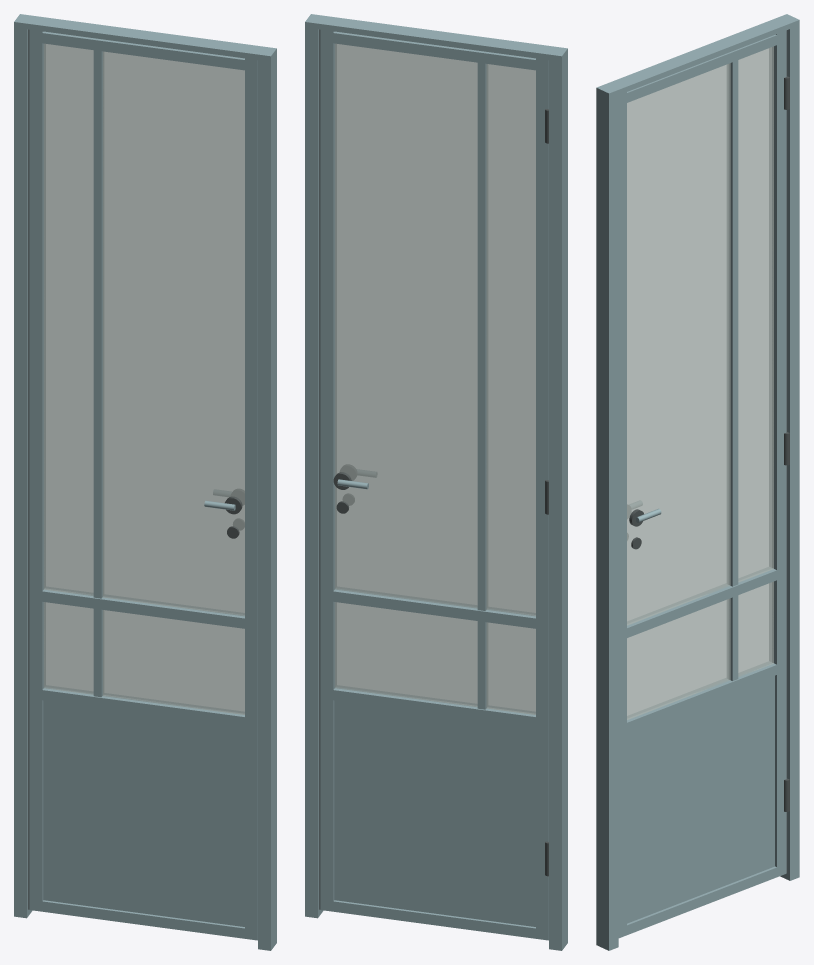
The model's file is industrial-bath-door.glb.
The picture shows the model from 3 angles, left to right: view 1: azimuth 30°, elevation 25°; view 2: azimuth 210°, elevation 25°; view 3: azimuth 270°, elevation 25°; orthographic projection. The views are drawn at different scales.
Parts seen in each view (by area): view 1: IB_GlassRMain, IB_KickPanel, IB_GlassLMain, IB_JambRight, IB_StileL, IB_JambLeft, IB_GlassRLow, IB_StileR, IB_Mullion, IB_GlassLLow, IB_Header, IB_RailKick (+4 smaller); view 2: IB_GlassRMain, IB_KickPanel, IB_GlassLMain, IB_JambLeft, IB_StileR, IB_JambRight, IB_GlassRLow, IB_StileL, IB_Mullion, IB_GlassLLow, IB_Header, IB_RailKick (+4 smaller); view 3: IB_GlassRMain, IB_KickPanel, IB_JambRight, IB_GlassLMain, IB_StileL, IB_JambLeft, IB_GlassRLow, IB_StileR, IB_Mullion, IB_GlassLLow, IB_Header, IB_RailKick (+4 smaller).
Part boxes in pixels (x1,y1,x2,y2): IB_GlassRMain: (102, 51, 244, 616); IB_KickPanel: (43, 700, 244, 926); IB_GlassLMain: (43, 43, 93, 595); IB_JambRight: (258, 46, 276, 950); IB_StileL: (29, 29, 45, 911); IB_JambLeft: (14, 14, 32, 918); IB_GlassRLow: (102, 610, 244, 714); IB_StileR: (245, 58, 257, 940); IB_Mullion: (93, 50, 103, 697); IB_GlassLLow: (43, 602, 93, 694); IB_Header: (27, 15, 263, 59); IB_RailKick: (42, 685, 244, 727); IB_GlassRMain: (334, 43, 477, 608); IB_KickPanel: (334, 700, 535, 926); IB_GlassLMain: (486, 64, 535, 616); IB_JambLeft: (549, 46, 567, 950); IB_StileR: (320, 29, 336, 911); IB_JambRight: (305, 14, 323, 918); IB_GlassRLow: (334, 602, 477, 706); IB_StileL: (536, 58, 548, 940); IB_Mullion: (477, 62, 487, 709); IB_GlassLLow: (486, 622, 535, 714); IB_Header: (318, 15, 554, 59); IB_RailKick: (333, 685, 535, 727); IB_GlassRMain: (627, 63, 730, 625); IB_KickPanel: (627, 675, 774, 923); IB_JambRight: (596, 84, 618, 950); IB_GlassLMain: (738, 46, 773, 582); IB_StileL: (769, 30, 786, 877); IB_JambLeft: (778, 14, 799, 880); IB_GlassRLow: (627, 598, 730, 719); IB_StileR: (618, 92, 626, 938); IB_Mullion: (727, 60, 738, 680); IB_GlassLLow: (738, 581, 773, 676); IB_Header: (606, 17, 789, 94); IB_RailKick: (627, 662, 776, 732).
Bounding box in the file's own units: 0.3789 × 1.91 × 0.4094.
